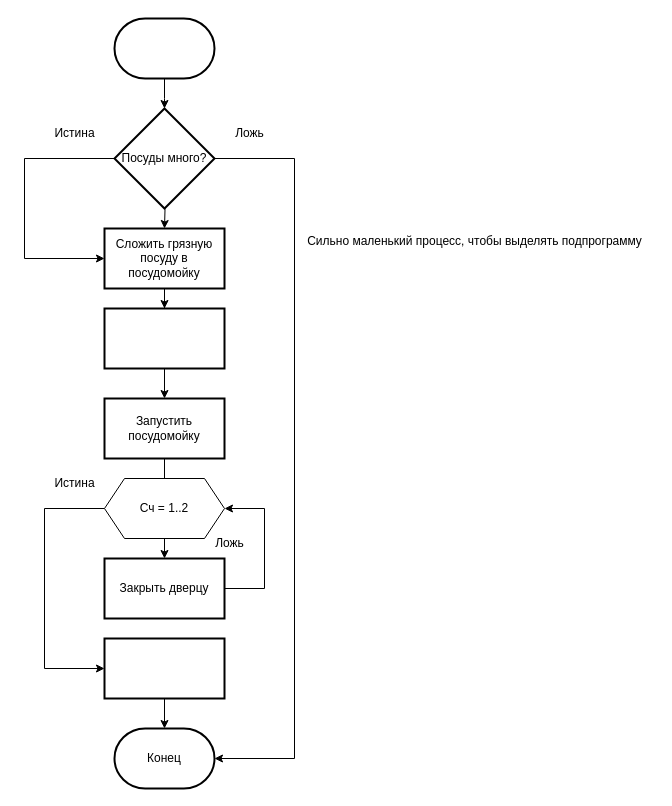
The diagram is 672 pixels wide and 806 high, and some of its shapes have lost their labels. The shapes that lost their labels are listed below. From the top down, each one's box as (x1, y1, x2, y2) in pixels, then its label:
(113, 17, 215, 79): Помыть посуду
(103, 307, 225, 369): Положить таблетку для мытья
(103, 637, 225, 699): Замок сработал- мойка зупустилась
